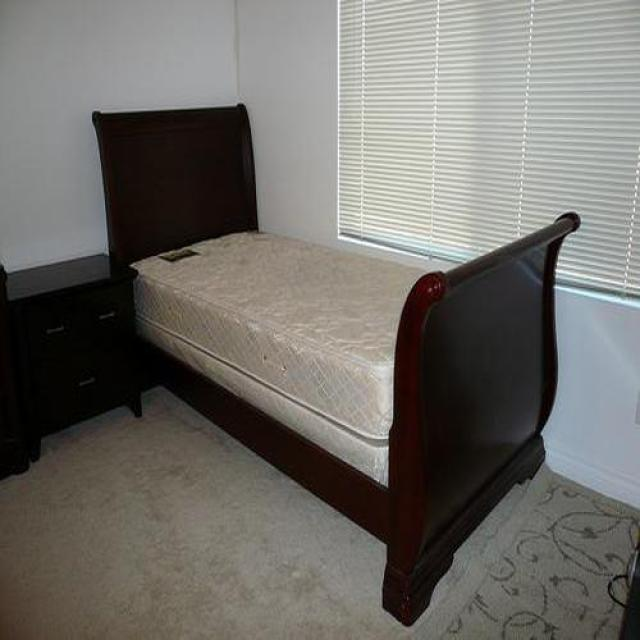bed: (93, 105, 580, 626)
